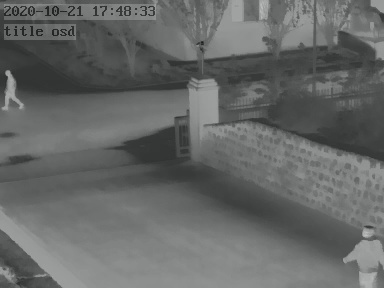person: (344, 227, 384, 288), (2, 68, 22, 109)
